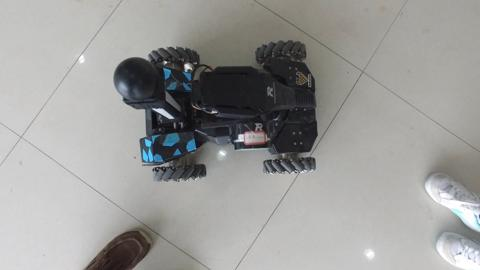chariot: (120, 31, 325, 201)
